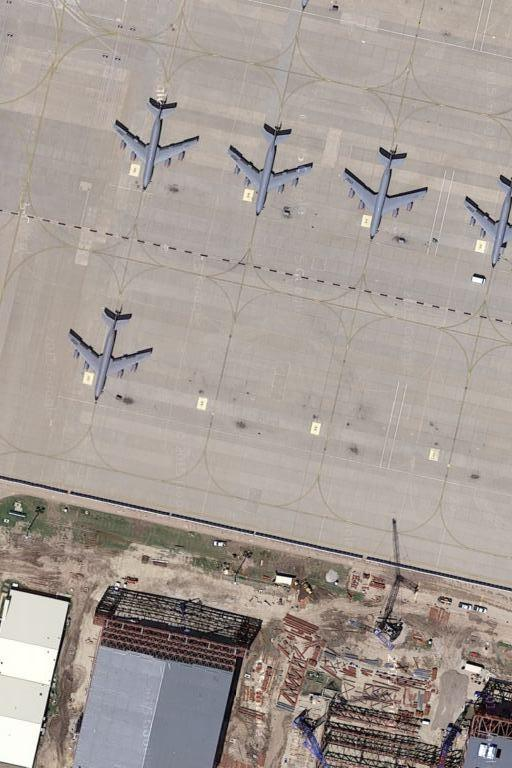KC-135: (109, 97, 203, 194), (65, 307, 157, 402), (341, 146, 431, 243), (226, 121, 316, 217), (464, 170, 512, 273)
